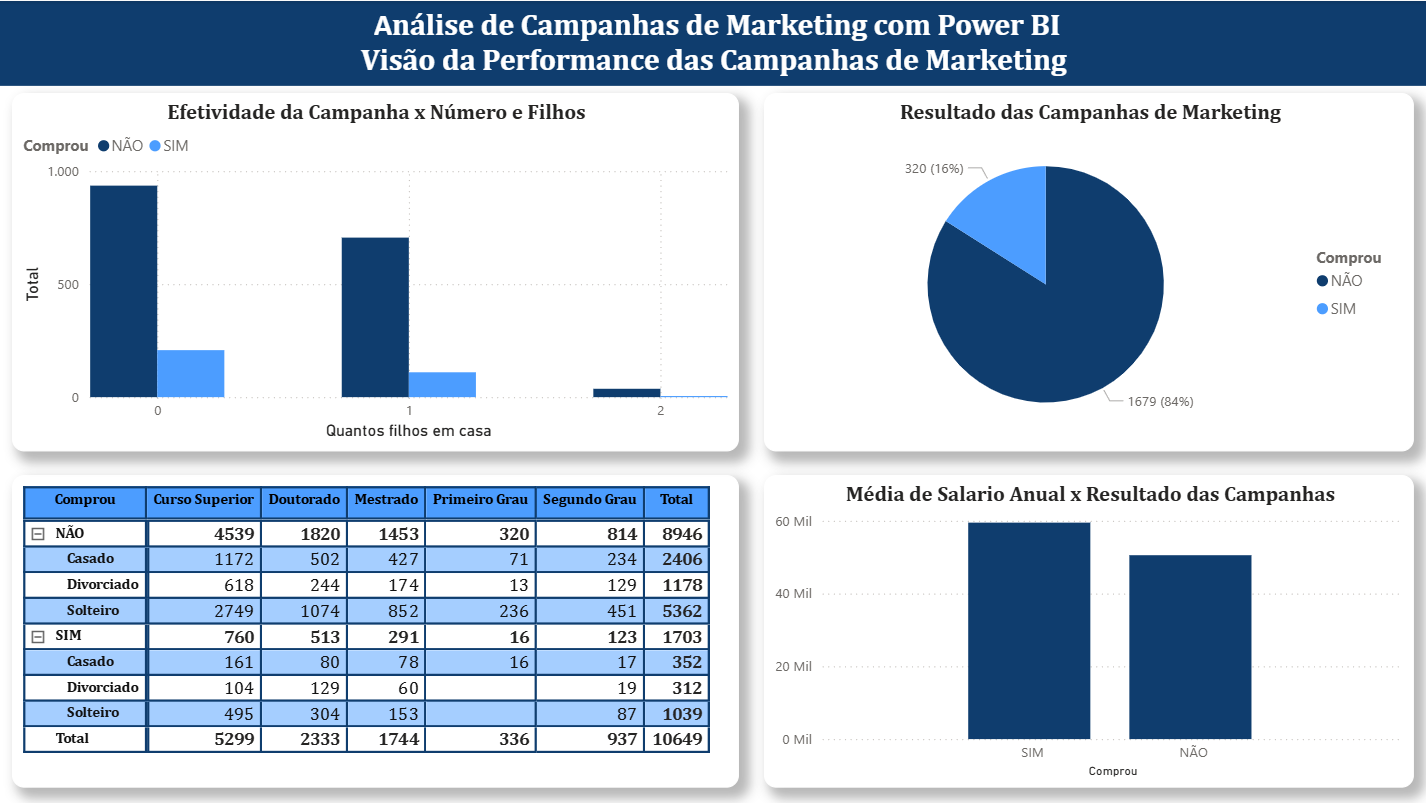

The page's visual inventory and layout, read from the dashboard file:
{"tool":"powerbi","page":{"name":" Visão Campanha","canvas":[1280,720],"ordinal":2},"visuals":[{"type":"textbox","box":[0,0,1280,76],"z":0},{"type":"pieChart","title":"Resultado das Campanhas de Marketing","fields":{"Category":["DadosMarketing.Comprou"],"Y":["CountNonNull(DadosMarketing.ID)"]},"box":[685.3,82.3,582.5,320.7],"z":1000},{"type":"clusteredColumnChart","title":"Média de Salario Anual x Resultado das Campanhas","fields":{"Y":["Avg(DadosMarketing.Salario Anual)"],"Category":["DadosMarketing.Comprou"]},"box":[685.3,424.5,582.5,280.5],"z":2000},{"type":"pivotTable","fields":{"Rows":["DadosMarketing.Comprou","DadosMarketing.Estado Civil"],"Values":["Sum(DadosMarketing.Numero Visitas WebSite Mes)"],"Columns":["DadosMarketing.Escolaridade"]},"box":[11.2,424.5,650.8,280.5],"z":3000},{"type":"clusteredColumnChart","title":"Efetividade da Campanha x Número e Filhos","fields":{"Category":["DadosMarketing.Filhos em Casa"],"Series":["DadosMarketing.Comprou"],"Y":["CountNonNull(DadosMarketing.Filhos em Casa)"]},"box":[11.2,82.3,650.8,320.7],"z":4000}]}

Visuals, with their boxes in screenshot pixels (x1, y1, x2, y2), scaled from the page's 1280x720 canvas onto the 1426x803 screenshot:
textbox: BBox(0, 0, 1425, 85)
"Resultado das Campanhas de Marketing" pieChart: BBox(763, 92, 1412, 449)
"Média de Salario Anual x Resultado das Campanhas" clusteredColumnChart: BBox(763, 473, 1412, 786)
pivotTable - DadosMarketing.Comprou x DadosMarketing.Estado Civil: BBox(12, 473, 738, 786)
"Efetividade da Campanha x Número e Filhos" clusteredColumnChart: BBox(12, 92, 738, 449)
